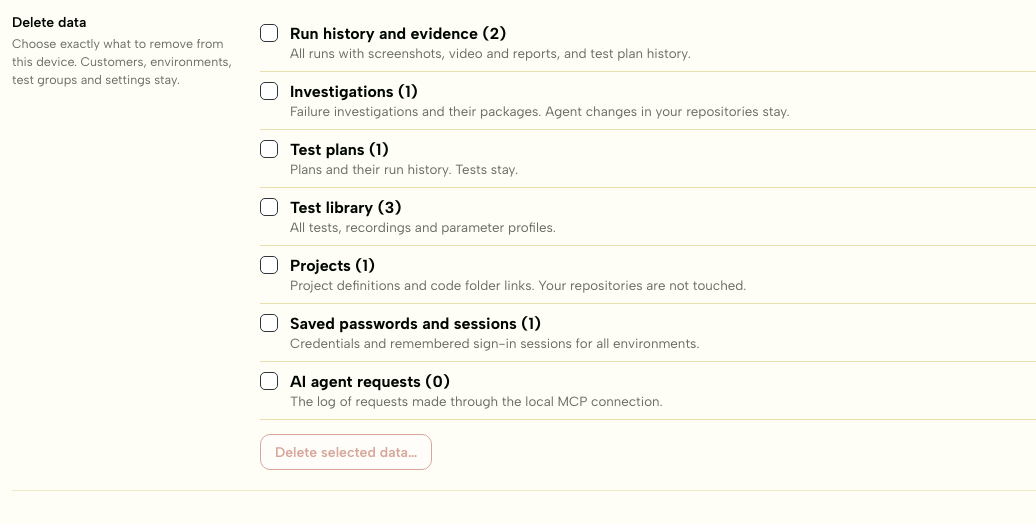
DataDeletionSection › locks in what a selection depends on
Click the checkbox labelled "Test library".
click(269, 207)  # box [260,198,278,216]
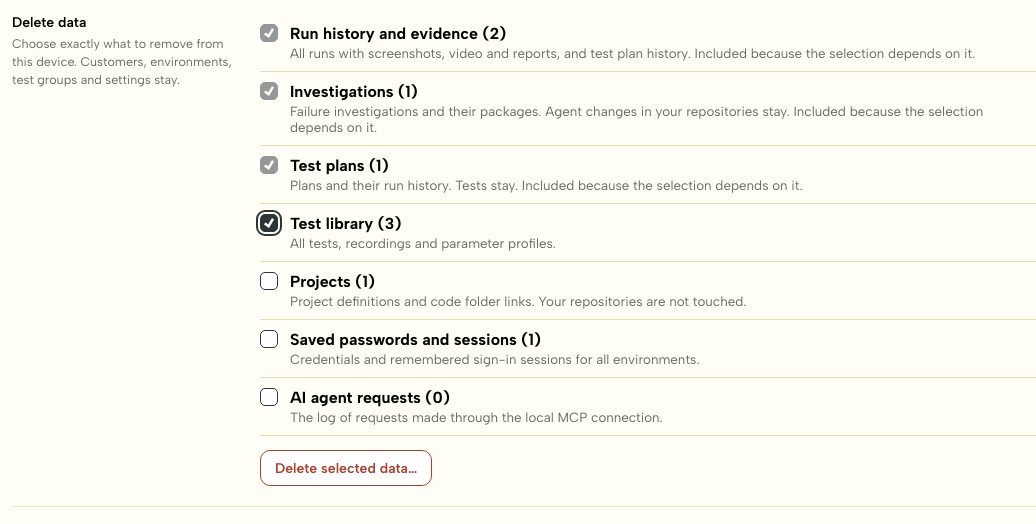
Check: the checkbox labelled "Run history and evidence" is checked, box [260,24,278,42]
Check: the checkbox labelled "Run history and evidence" is disabled, box [260,24,278,42]
Check: the checkbox labelled "Investigations" is checked, box [260,82,278,100]
